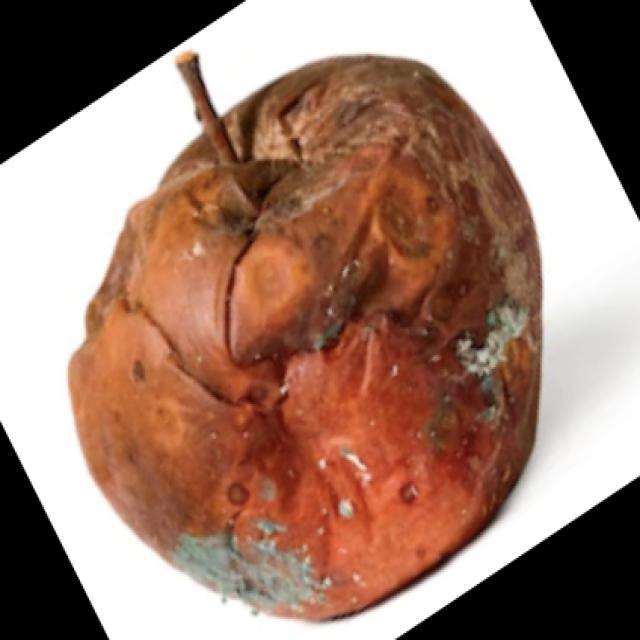Rotten: (50, 60, 545, 620)
